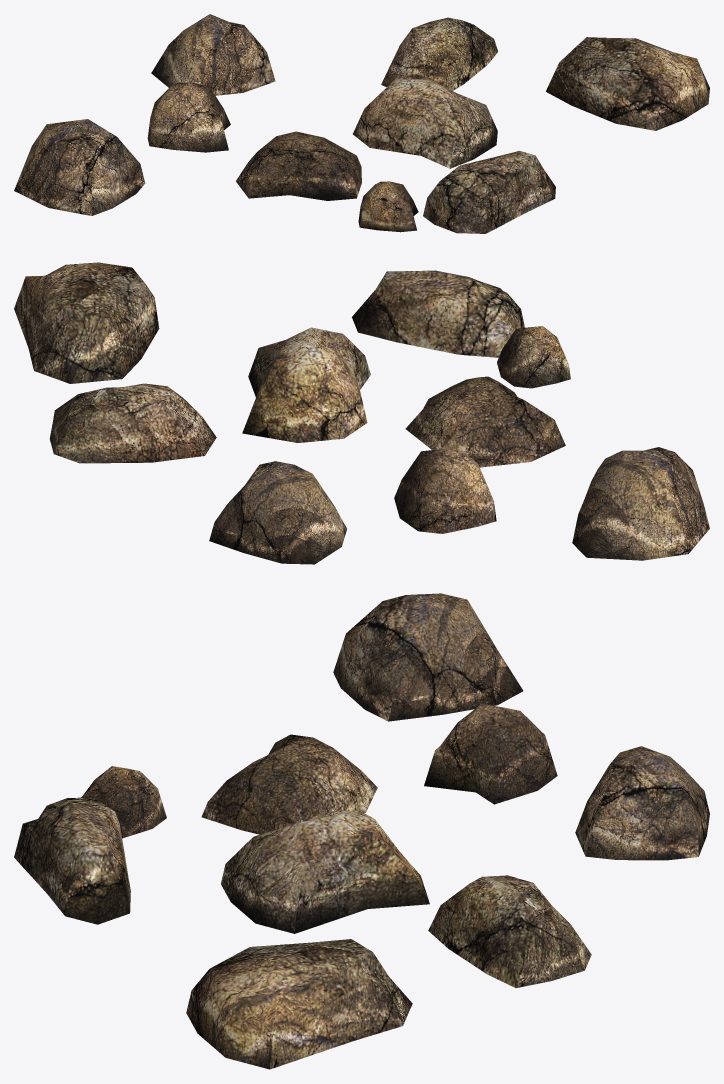
File: rock_014.obj
3 views of the same model, one above another, from view 1: azimuth 30°, elevation 25°; view 2: azimuth 150°, elevation 25°; view 3: azimuth 270°, elevation 25° (orthographic). The views are drawn at different scales.
Parts seen in each view (by area): view 1: rock_014; view 2: rock_014; view 3: rock_014.
Part boxes in pixels (x1,y1,x2,y2): rock_014: (14, 14, 709, 233); rock_014: (14, 262, 709, 564); rock_014: (14, 593, 709, 1069).
Bounding box in the file's own units: 391 × 37.53 × 274.
1 material, 1 textured.
